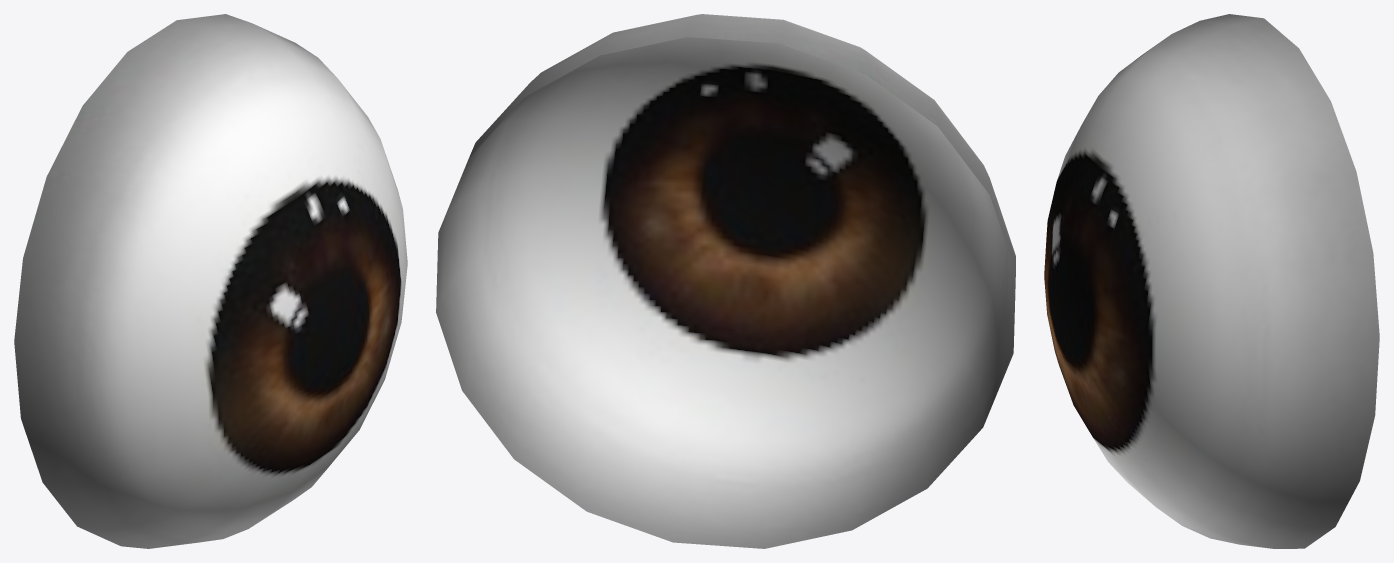
File: hetun_eye_right.fbx
3 views of the same model, side by side, from view 1: azimuth 30°, elevation 25°; view 2: azimuth 150°, elevation 25°; view 3: azimuth 270°, elevation 25° (orthographic). The views are drawn at different scales.
Parts seen in each view (by area): view 1: Right_Eye3; view 2: Right_Eye3; view 3: Right_Eye3.
Boxes of the visible parts, left/top/right/bottom form: Right_Eye3: left=14, top=14, right=407, bottom=548; Right_Eye3: left=436, top=14, right=1015, bottom=548; Right_Eye3: left=1044, top=14, right=1379, bottom=548.
Size of the model in its own units: 0.0738 by 0.078 by 0.0489.
